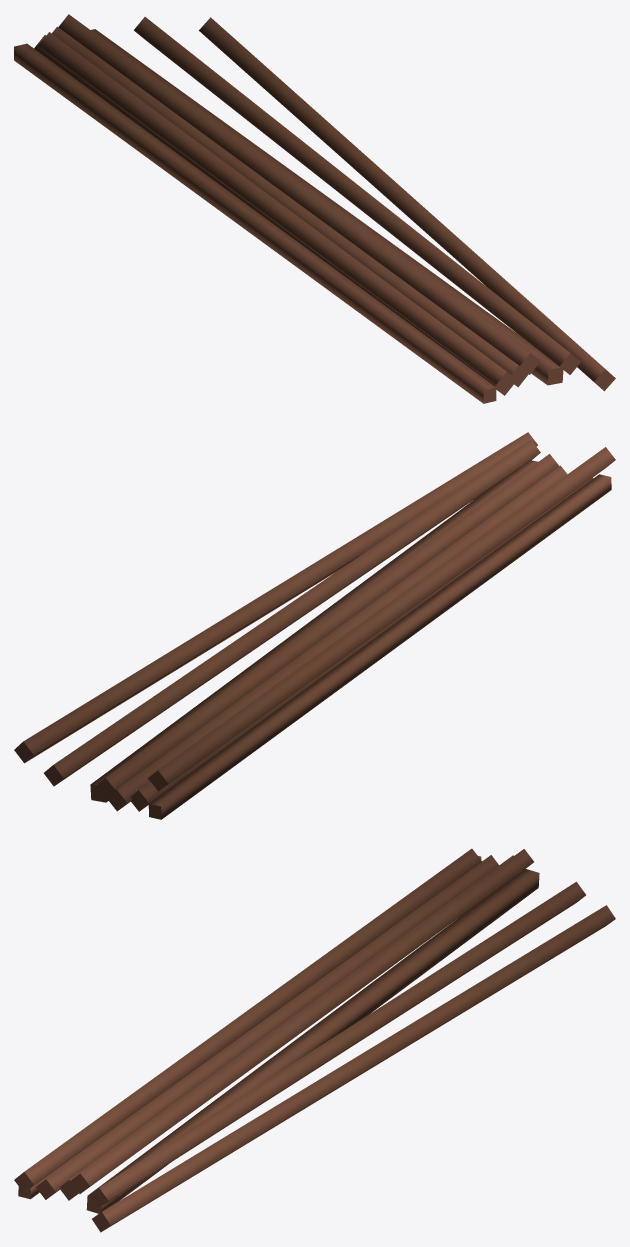
File: BarsStack_1.fbx
3 views of the same model, one above another, from view 1: azimuth 30°, elevation 25°; view 2: azimuth 150°, elevation 25°; view 3: azimuth 330°, elevation 25° (orthographic). The views are drawn at different scales.
Visible parts, largest first — view 1: BarsStack_1; view 2: BarsStack_1; view 3: BarsStack_1.
Boxes of the visible parts, x1,y1,x2,y2 form: BarsStack_1: [14, 14, 615, 403]; BarsStack_1: [14, 432, 615, 819]; BarsStack_1: [14, 848, 615, 1232].
Bounding box in the file's own units: 146 × 28.73 × 684.
